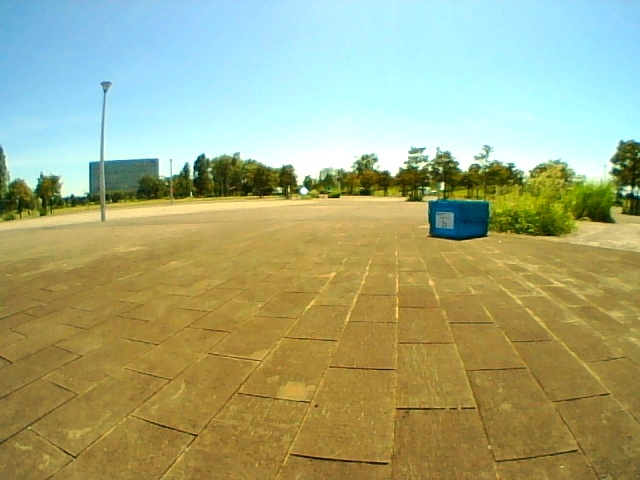blue_box: (430, 201, 488, 238)
tag: (434, 212, 453, 229)
